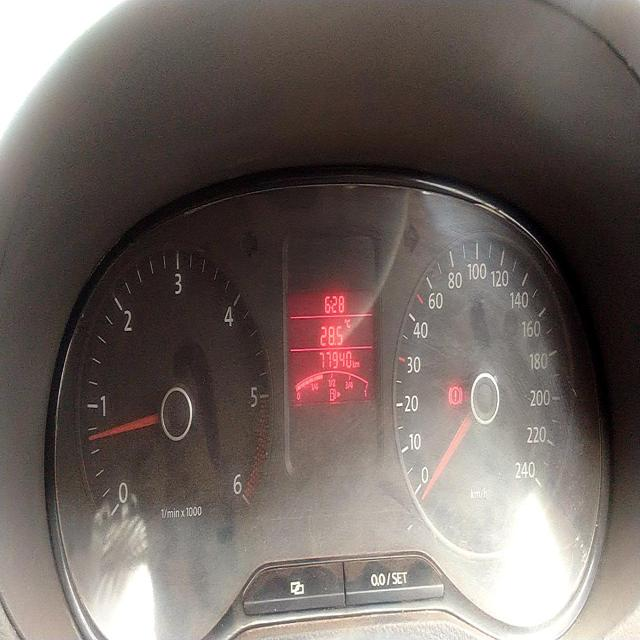odometer: (314, 345, 354, 373)
